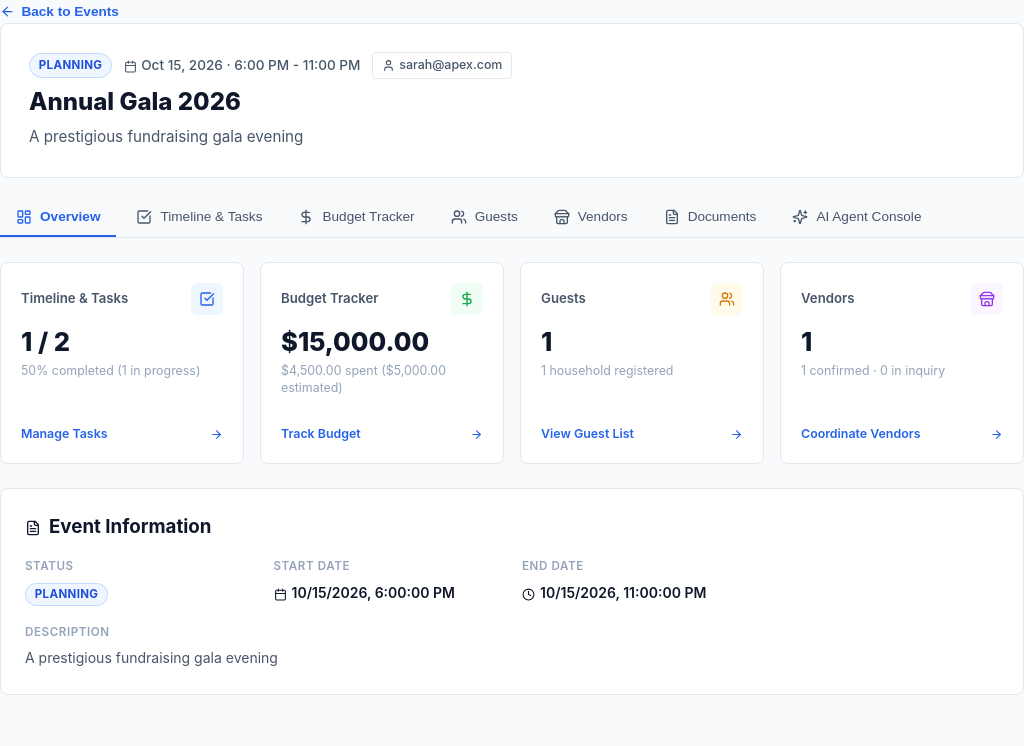
EventLayout and Routing (Epic 3.2) › navigates between sub-tabs when tab buttons are clicked
The width and height of the screenshot is (1024, 746).
expect the heading "Event Information" is shown: met, box [25,515,211,538]
Click Timeline tab
Click the tab "Timeline & Tasks". click: (200, 218)
box: [120,198,278,237]
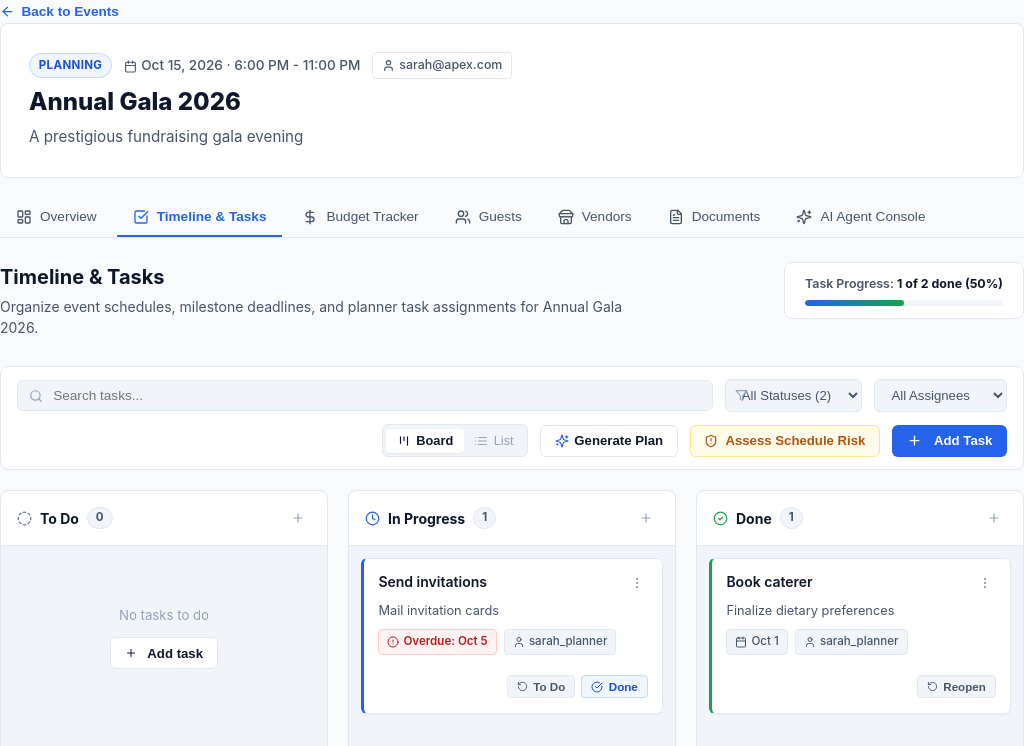
expect the heading "Timeline & Tasks" is shown: met, box [0,265,165,289]
Click Budget tab
Click the tab "Budget Tracker". click: (361, 218)
box: [286,198,435,237]
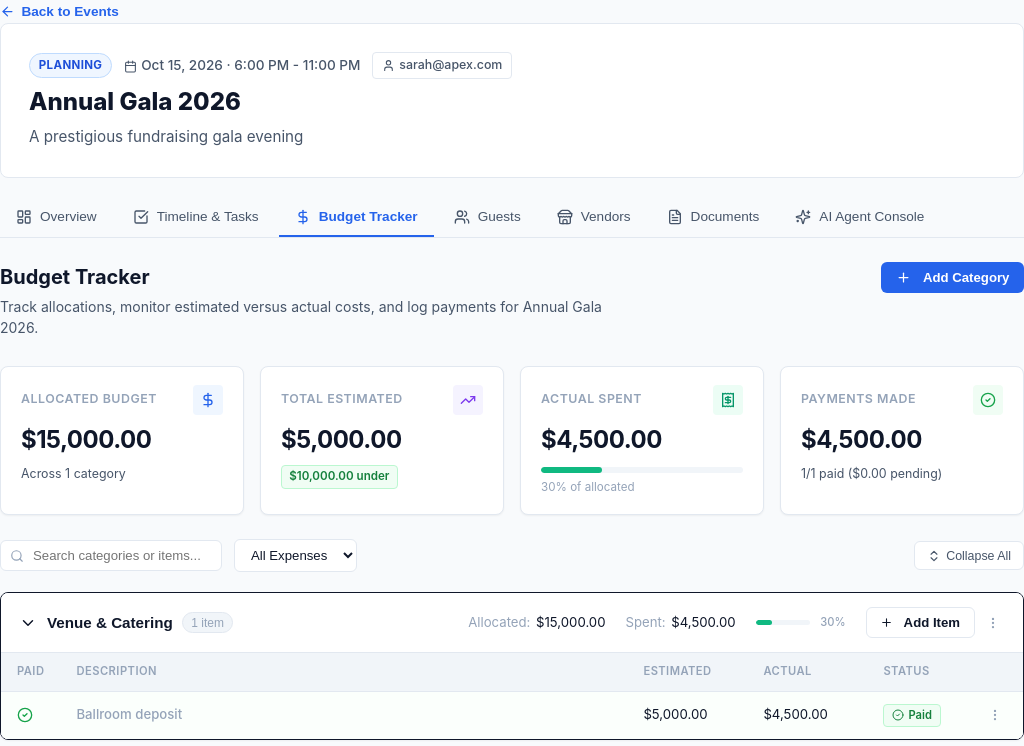
expect the heading "Budget Tracker" is shown: met, box [0,265,150,289]
Click Guests tab
Click the tab "Guests". click: (487, 218)
box: [438,198,537,237]
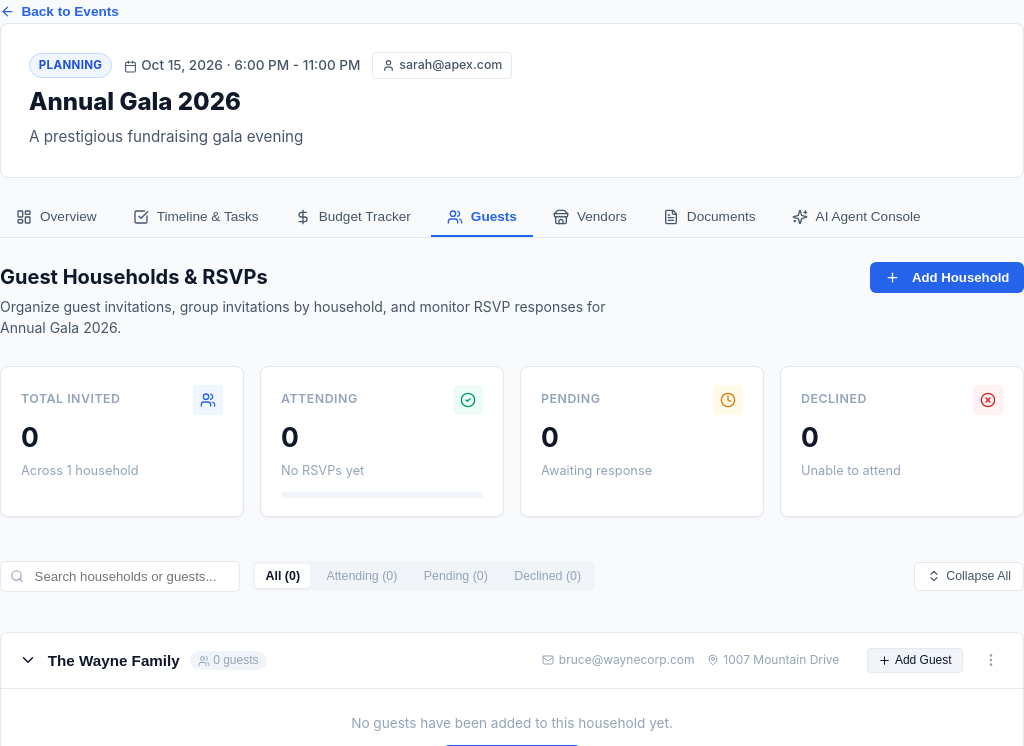
expect the heading "Guest Households & RSVPs" is shown: met, box [0,265,268,289]
Click Vendors tab
Click the tab "Vendors". click: (590, 218)
box: [537,198,643,237]
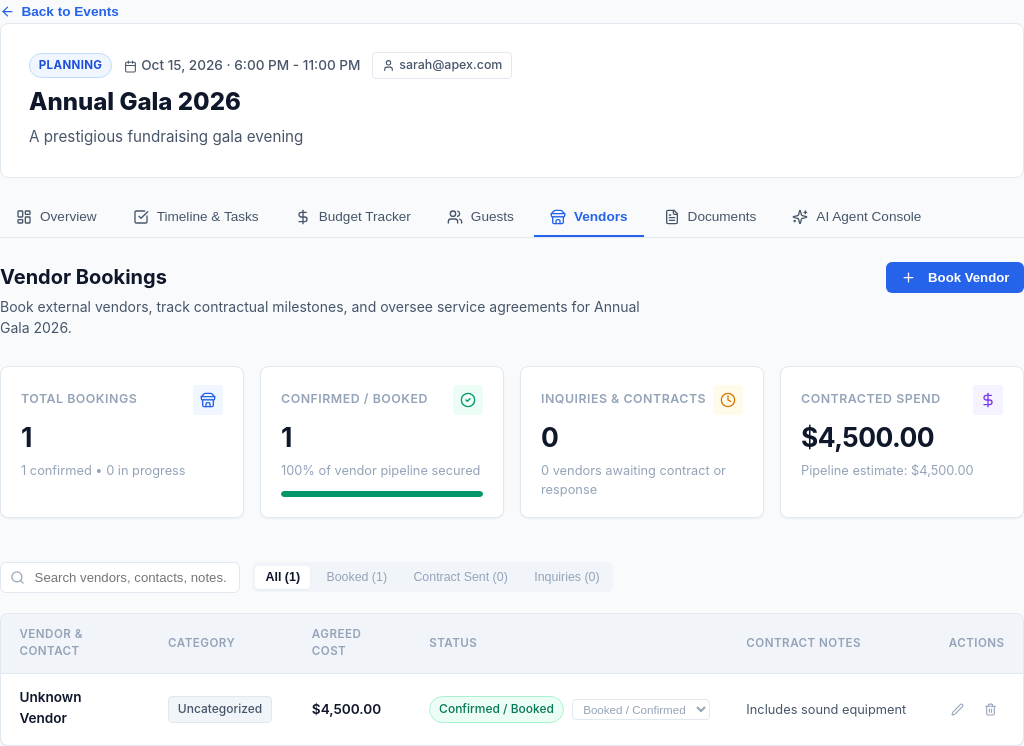
expect the heading "Vendor Bookings" is shown: met, box [0,265,167,289]
Click Documents tab
Click the tab "Documents". click: (710, 218)
box: [648,198,772,237]
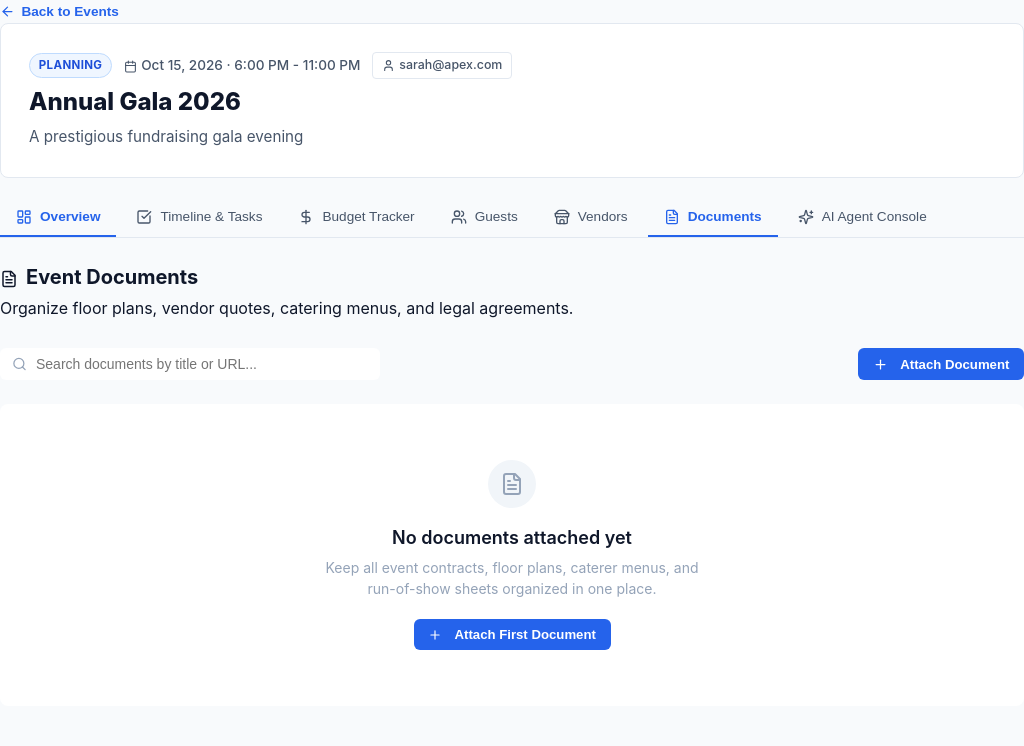
expect the heading "Event Documents" is shown: met, box [0,265,198,289]
